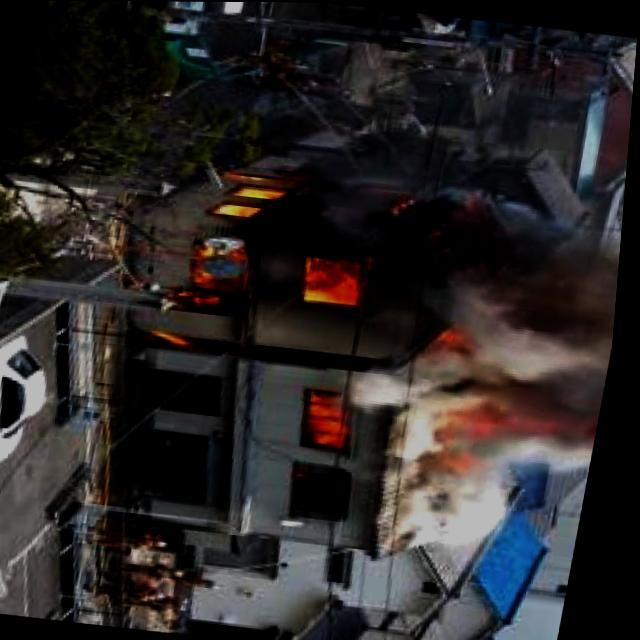helmet: (303, 250, 377, 312), (303, 386, 368, 448), (170, 286, 231, 314), (151, 327, 206, 352), (234, 182, 295, 204), (213, 197, 264, 219)
no_helmet: (334, 210, 627, 571)
